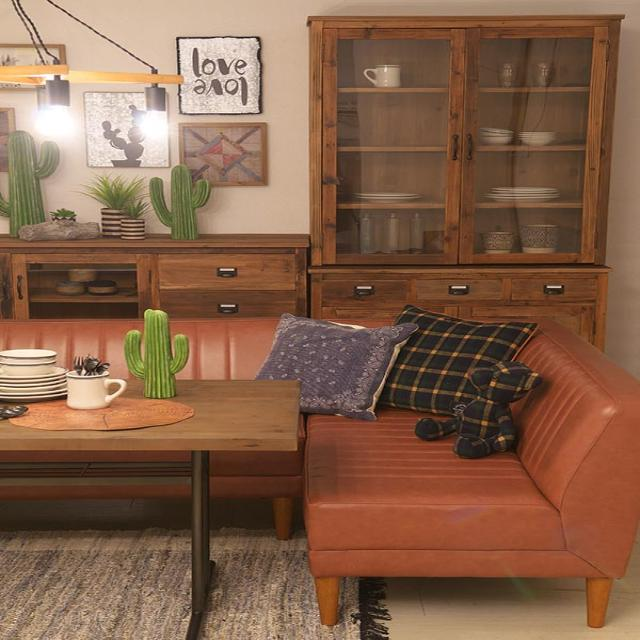vintage desk: (0, 376, 303, 634)
vintage shelf: (306, 12, 610, 328), (5, 228, 302, 315)
vintage sofa: (0, 318, 636, 628)
